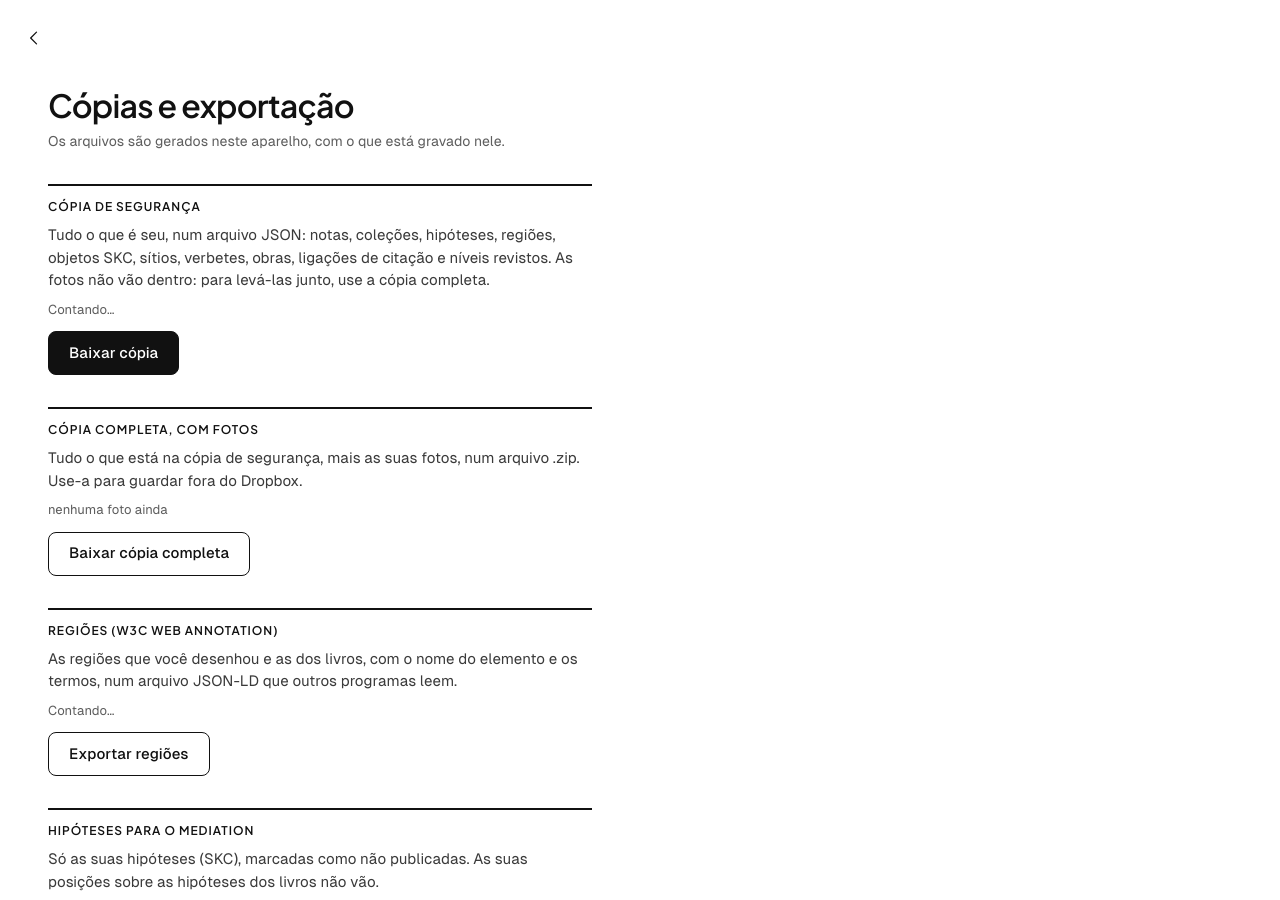
Test: Exportar › dois toques seguidos geram um arquivo só
The image size is (1280, 900).
Click the button "Baixar cópia" at (114, 353), box [48, 331, 179, 375]
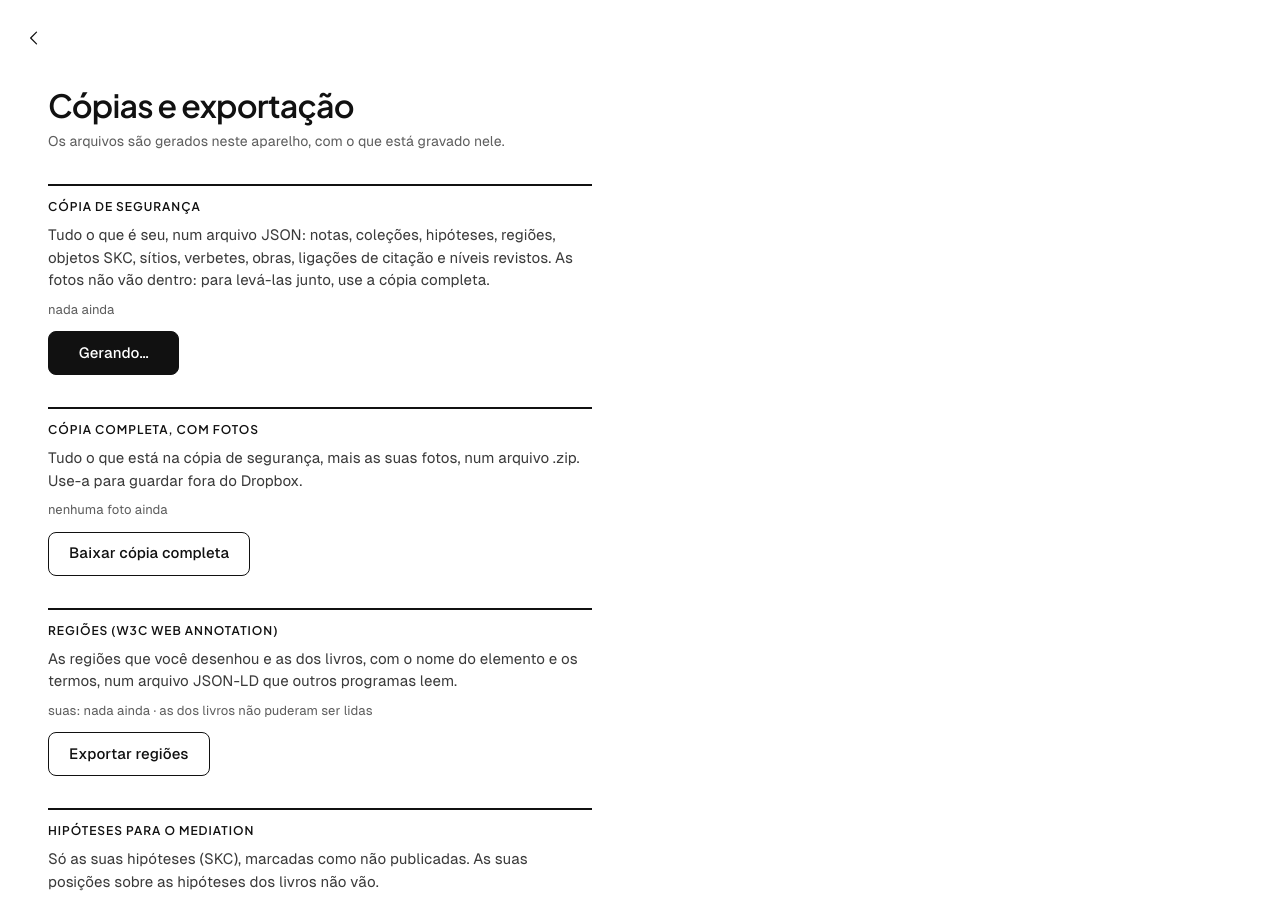
Check: the button named "Baixar cópia" has attribute aria-busy="true"
Click the button named "Baixar cópia" at (114, 353), box [48, 331, 179, 375]
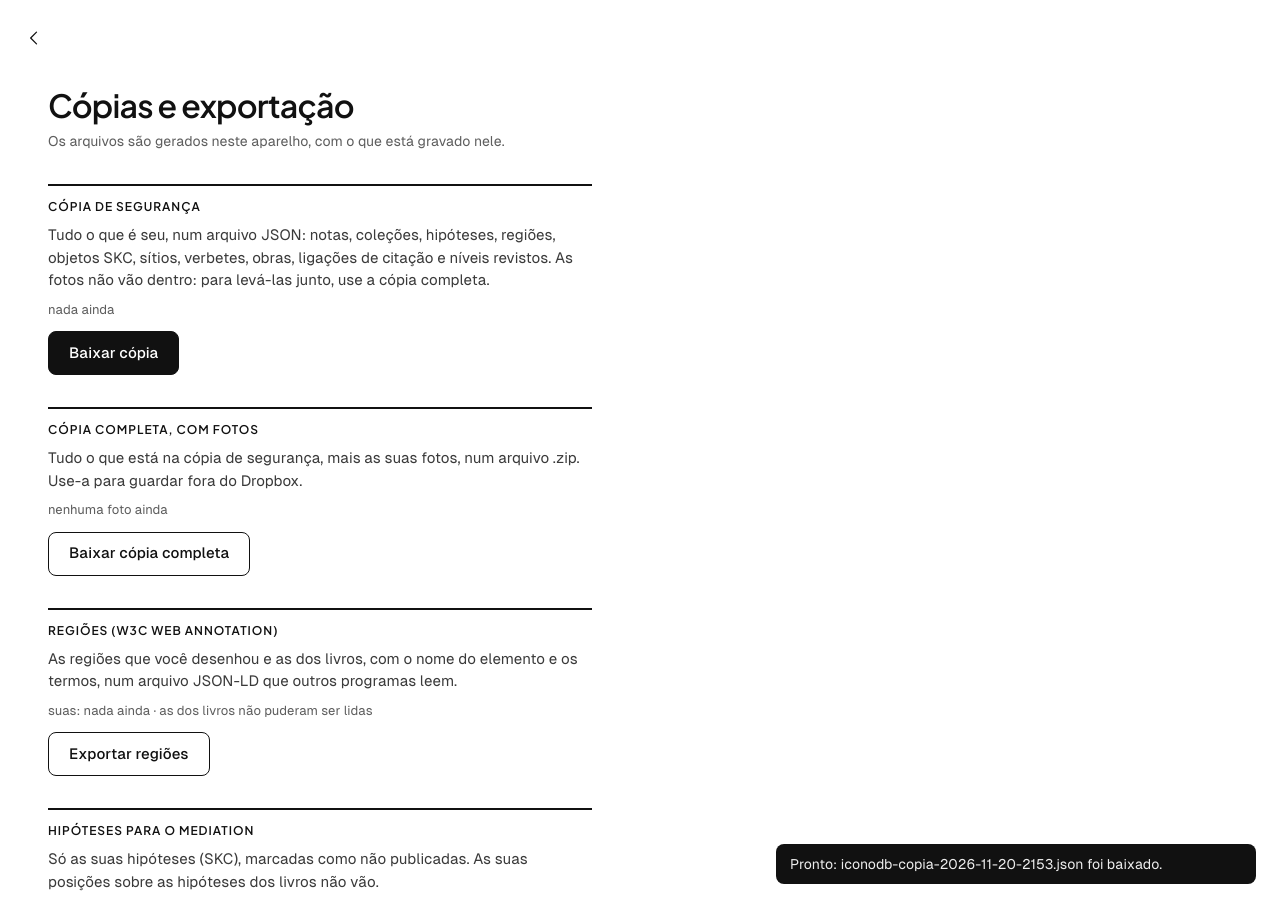
Check: the text "Pronto: iconodb-copia-2026-11-20-2153.json foi baixado." is shown, box [790, 854, 1162, 874]
